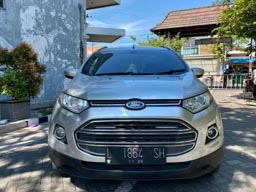plat: (105, 144, 170, 159)
